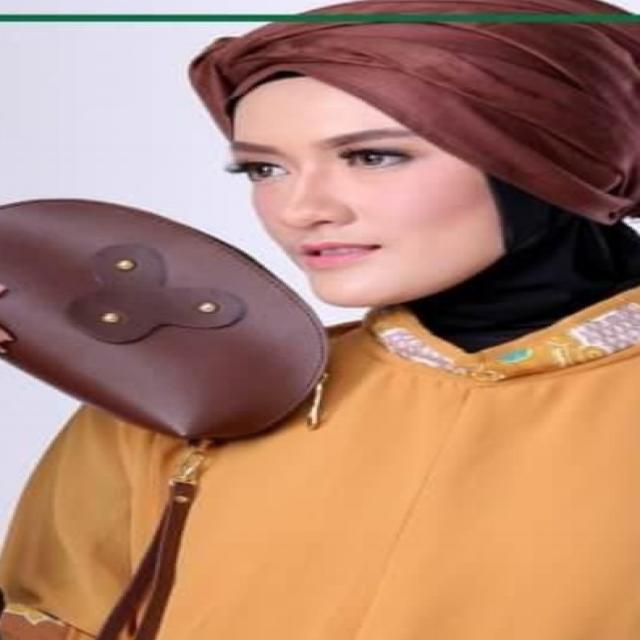head: (184, 7, 591, 313)
